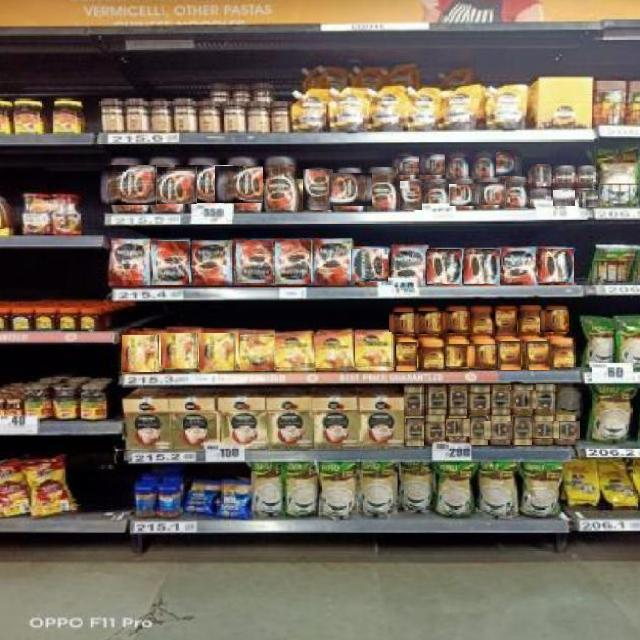Coffee: (100, 164, 157, 205), (176, 164, 233, 203), (215, 165, 273, 203), (140, 166, 197, 204), (264, 156, 301, 212), (109, 239, 150, 284), (193, 240, 231, 286), (151, 240, 189, 285), (314, 239, 352, 284), (235, 240, 273, 283), (275, 239, 311, 284), (329, 173, 372, 206), (314, 333, 353, 369), (276, 333, 313, 370), (123, 334, 159, 372), (366, 168, 398, 210), (355, 333, 392, 369), (200, 333, 236, 370), (162, 332, 198, 368), (239, 333, 274, 370), (464, 249, 500, 284), (537, 249, 574, 283), (392, 249, 424, 288), (303, 169, 333, 210), (352, 248, 388, 282), (427, 250, 462, 284), (501, 250, 534, 285), (525, 340, 550, 370), (474, 182, 506, 205), (505, 178, 528, 209), (495, 150, 522, 176), (551, 341, 575, 370), (470, 344, 499, 368), (441, 310, 470, 333), (389, 311, 418, 334), (414, 311, 443, 334), (420, 342, 443, 371), (449, 184, 479, 206), (499, 340, 521, 370), (541, 309, 569, 332), (444, 344, 472, 367), (400, 181, 422, 210), (520, 305, 542, 334), (471, 307, 493, 336), (495, 307, 517, 336), (396, 341, 417, 371), (417, 153, 445, 175), (426, 386, 447, 415), (474, 151, 496, 178), (426, 416, 446, 445), (469, 416, 488, 445), (485, 421, 514, 440), (513, 416, 532, 445), (405, 417, 424, 446), (449, 385, 467, 415), (492, 385, 510, 415), (426, 180, 450, 202), (449, 151, 470, 176), (509, 391, 538, 409), (405, 387, 423, 416), (531, 164, 551, 190), (471, 385, 488, 415), (536, 385, 554, 413), (393, 156, 419, 175), (530, 422, 559, 439), (553, 421, 580, 439), (444, 419, 470, 437), (555, 165, 577, 186), (579, 165, 597, 186), (552, 190, 575, 206), (530, 188, 549, 207), (579, 189, 598, 207)
